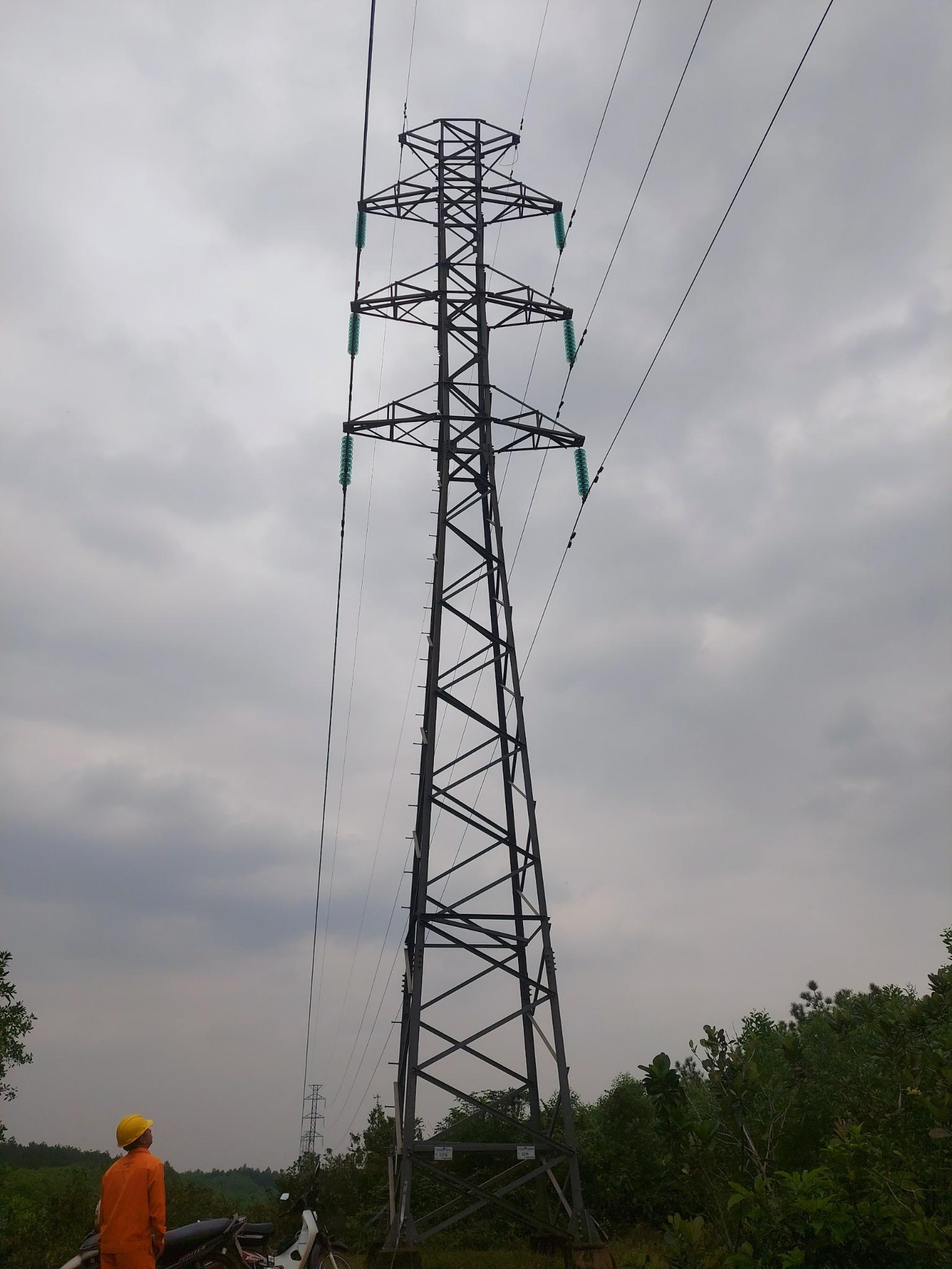tower: (326, 92, 606, 1253)
